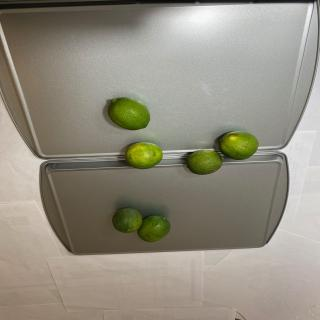Lemon: (108, 97, 150, 130), (219, 131, 259, 160), (125, 142, 163, 169), (186, 149, 223, 175), (137, 215, 171, 242), (111, 208, 142, 233)
